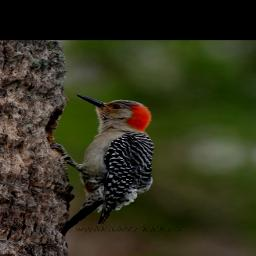Woodpecker: (54, 90, 165, 244)
